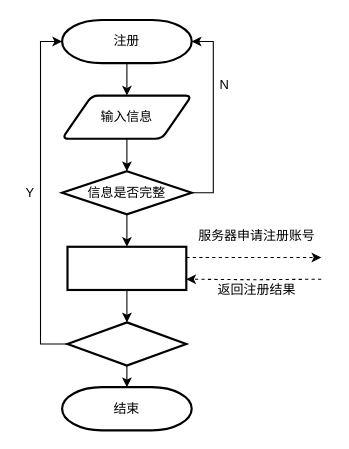
Image size: 349x449. Some labels were removed from this diagram. The shapes that lost their labels are listed below. From the top down, each one's box as (x1, y1, x2, y2) in pixels, then its label:
(66, 245, 187, 291): 发起注册
(66, 321, 187, 366): 注册成功
